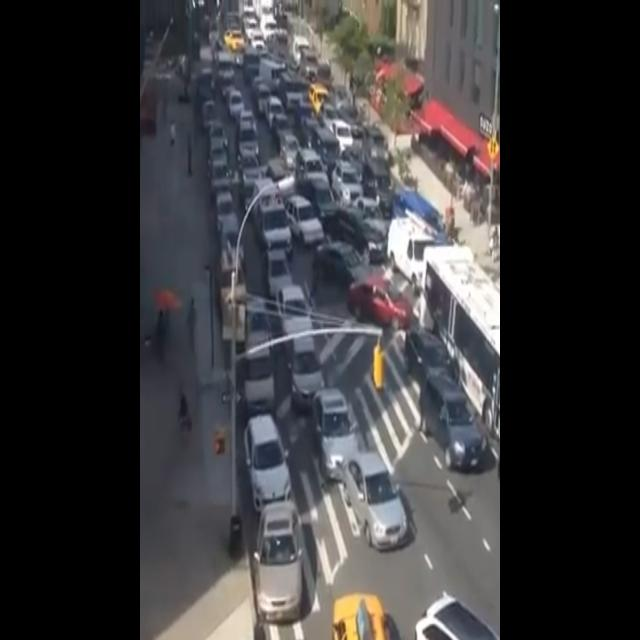Ambulance: (250, 171, 294, 257)
